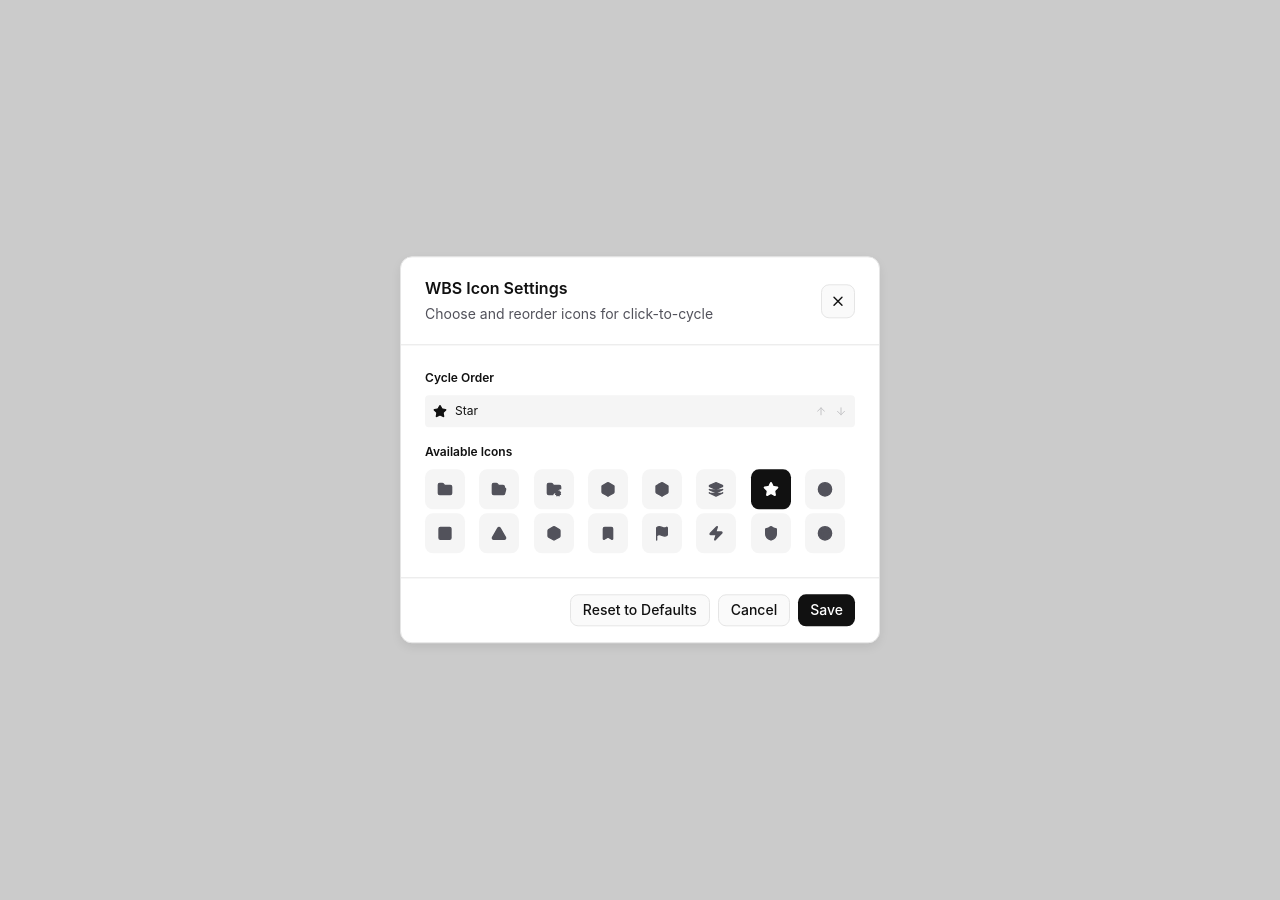
Test: WbsIconSettingsModal › resets to defaults
The width and height of the screenshot is (1280, 900).
Click the button "Reset to Defaults": (640, 611) [570, 595, 710, 627]
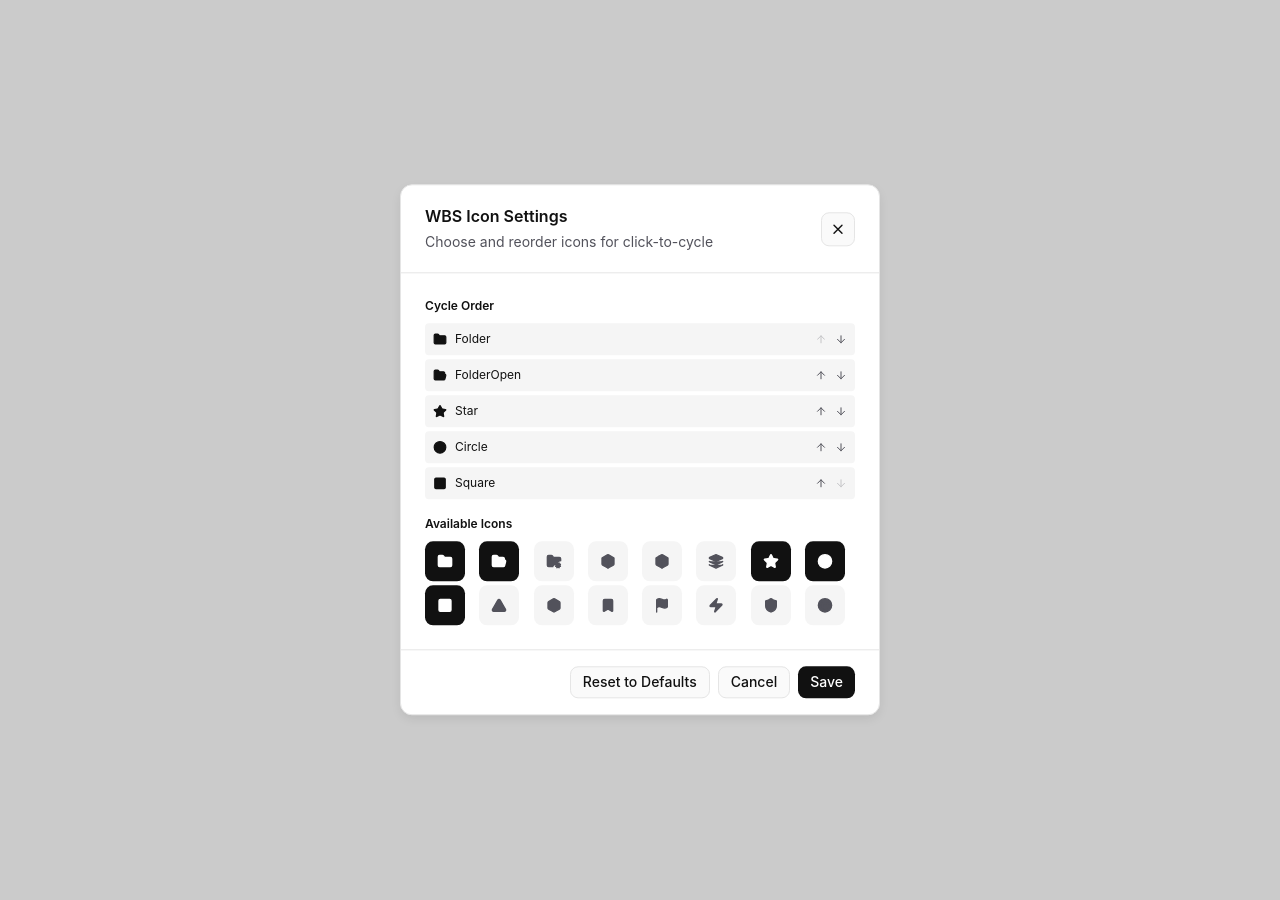
Expected: the element with test id "cycle-item-Folder" is shown, [425, 324, 855, 356]
Expected: the element with test id "cycle-item-FolderOpen" is shown, [425, 360, 855, 392]
